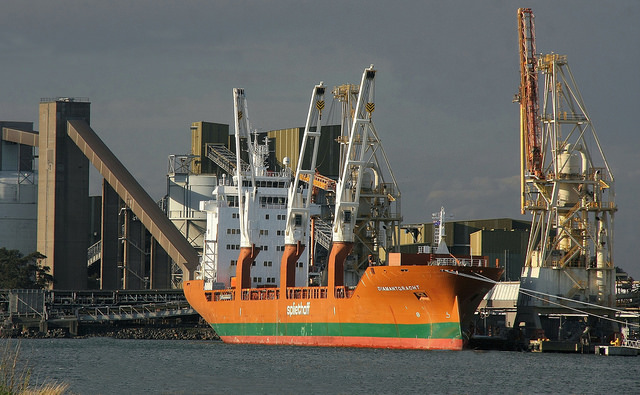bulk carrier: (181, 68, 506, 353)
